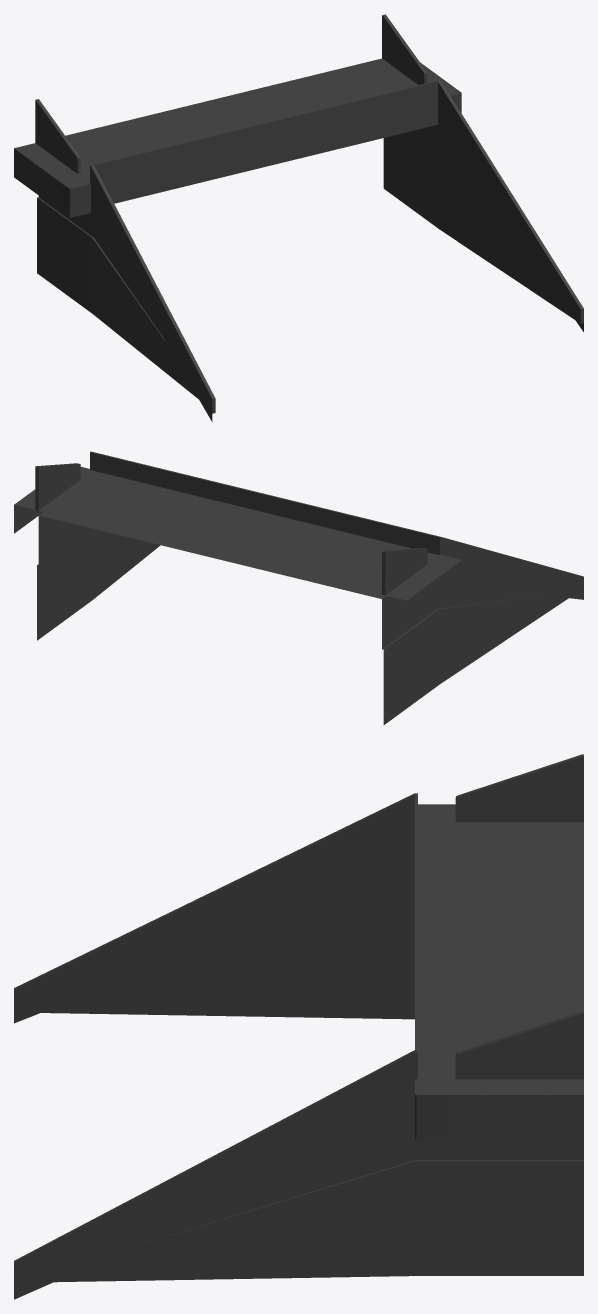
File: Gray_Wall.FBX
3 views of the same model, one above another, from view 1: azimuth 30°, elevation 25°; view 2: azimuth 150°, elevation 25°; view 3: azimuth 270°, elevation 25° (orthographic). The views are drawn at different scales.
Visible parts, largest first — view 1: Gray_Wall; view 2: Gray_Wall; view 3: Gray_Wall.
Boxes of the visible parts, left/top/right/bottom form: Gray_Wall: left=14, top=14, right=583, bottom=421; Gray_Wall: left=14, top=451, right=583, bottom=724; Gray_Wall: left=14, top=754, right=583, bottom=1299.
Bounding box in the file's own units: 23424 × 10468 × 19411.
